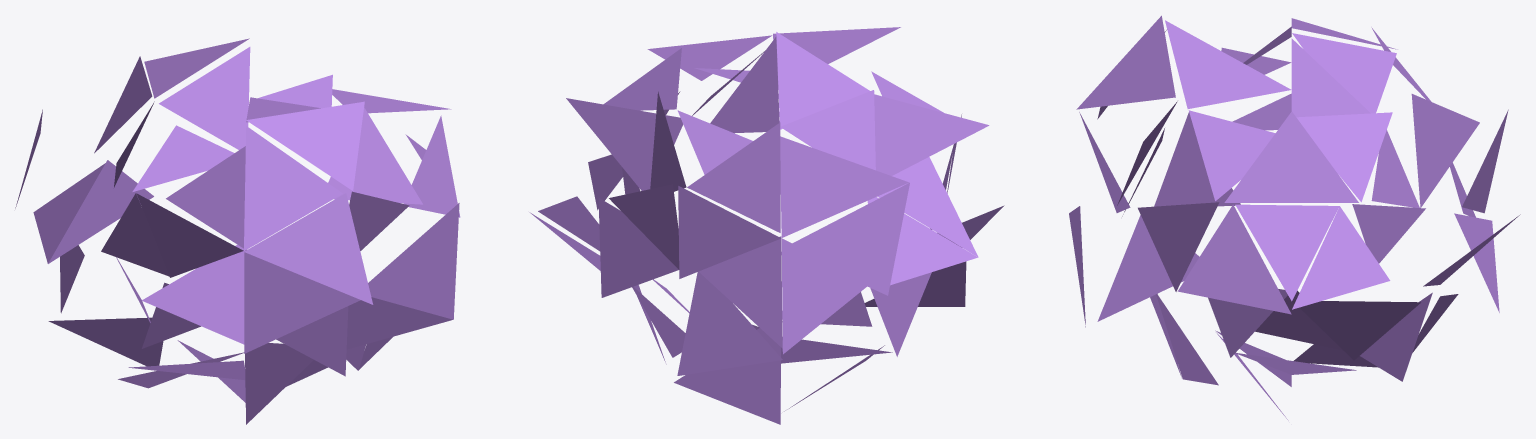
File: rare.glb
The picture shows the model from 3 angles, left to right: view 1: azimuth 30°, elevation 25°; view 2: azimuth 150°, elevation 25°; view 3: azimuth 270°, elevation 25°; orthographic projection. The views are drawn at different scales.
Visible parts, largest first — view 1: rare; view 2: rare; view 3: rare.
Boxes of the visible parts, bbox=[...] form: rare: bbox=[15, 38, 460, 424]; rare: bbox=[529, 27, 1004, 424]; rare: bbox=[1069, 15, 1520, 420].
Bounding box in the file's own units: 2.35 × 2.07 × 2.36.
